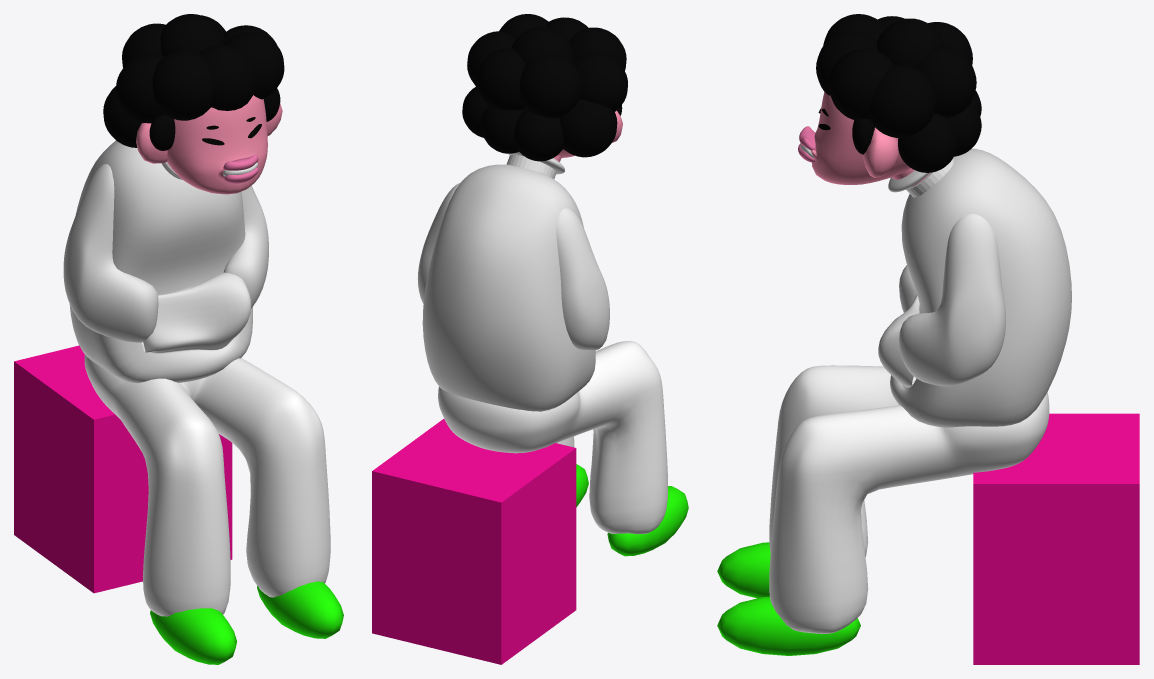
File: friend.glb
The picture shows the model from 3 angles, left to right: view 1: azimuth 30°, elevation 25°; view 2: azimuth 150°, elevation 25°; view 3: azimuth 270°, elevation 25°; orthographic projection. The views are drawn at different scales.
Parts seen in each view (by area): view 1: pCube10, pCube9, 1-3body, hair, 3-2body, pCube1, pCube13, pCube12; view 2: pCube9, 1-3body, pCube10, hair, 3-2body, pCube13, 실린더; view 3: pCube9, pCube10, 1-3body, hair, 3-2body, pCube1, pCube12, pCube13.
Part boxes in pixels (x1,y1,x2,y2): pCube10: [84, 342, 330, 616]; pCube9: [14, 345, 232, 593]; 1-3body: [69, 140, 252, 383]; hair: [103, 14, 284, 150]; 3-2body: [63, 164, 268, 342]; pCube1: [136, 95, 282, 194]; pCube13: [150, 608, 236, 664]; pCube12: [257, 581, 343, 638]; pCube9: [372, 419, 576, 664]; 1-3body: [422, 164, 595, 411]; pCube10: [438, 341, 667, 534]; hair: [462, 14, 627, 161]; 3-2body: [417, 182, 609, 350]; pCube13: [607, 486, 688, 556]; 실린더: [506, 154, 556, 179]; pCube9: [973, 413, 1139, 664]; pCube10: [769, 365, 1049, 633]; 1-3body: [878, 148, 1071, 427]; hair: [816, 14, 981, 172]; 3-2body: [899, 214, 1005, 386]; pCube1: [810, 92, 929, 187]; pCube12: [717, 596, 860, 655]; pCube13: [717, 542, 770, 598].
Size of the model in its own units: 0.4183 by 1.21 by 0.7618.
